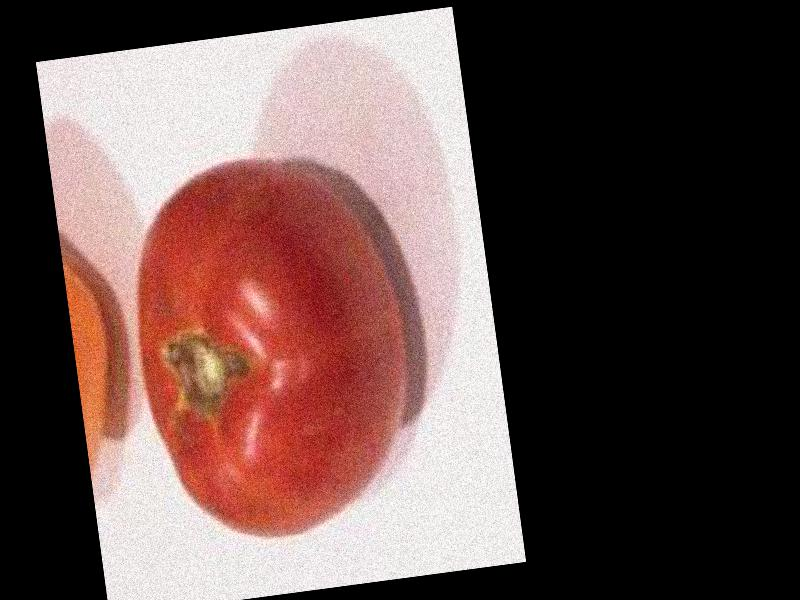Tomato: (119, 146, 425, 552)
